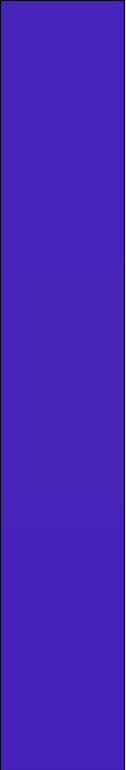safe: (14, 13, 115, 764)
